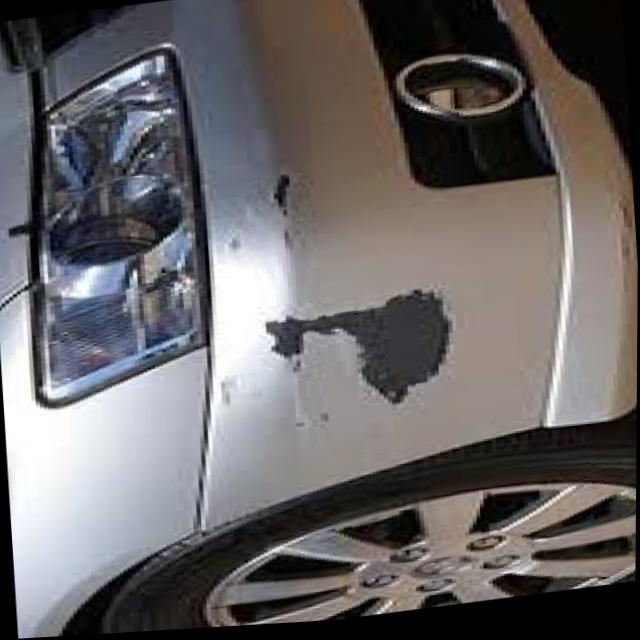Scratch: (251, 284, 467, 415)
